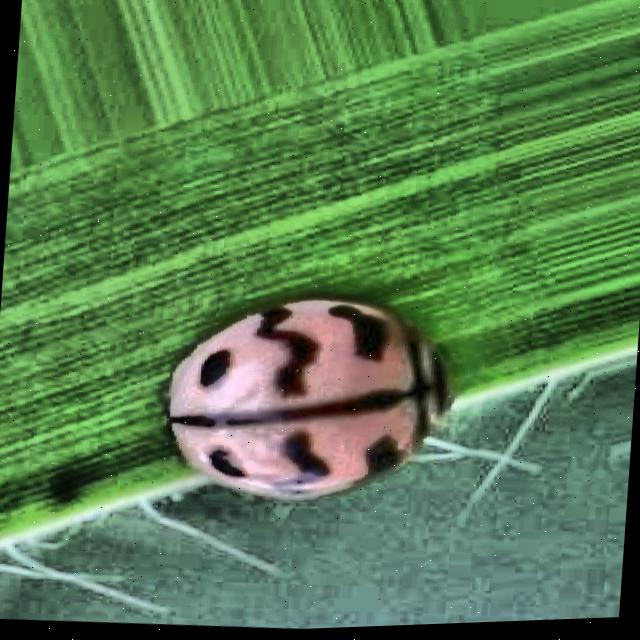Asian-Lady-beetle: (120, 264, 488, 546)
